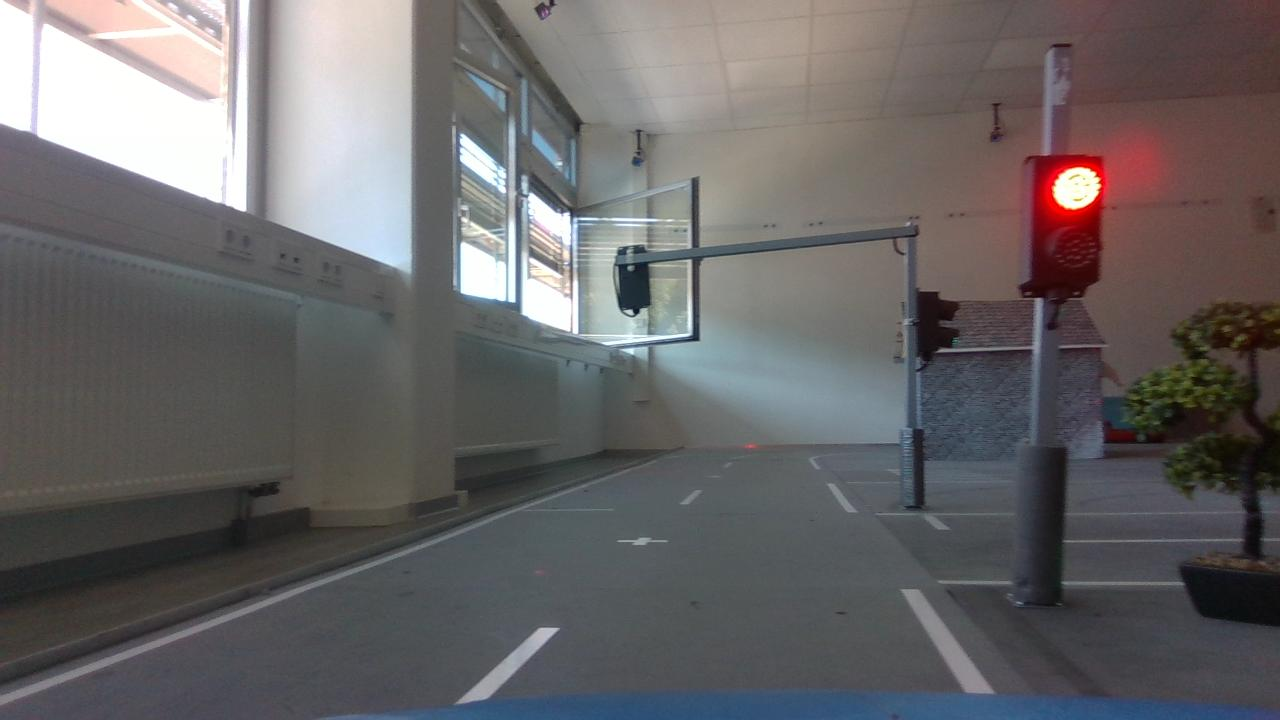traffic_light_red: (1001, 147, 1116, 297)
